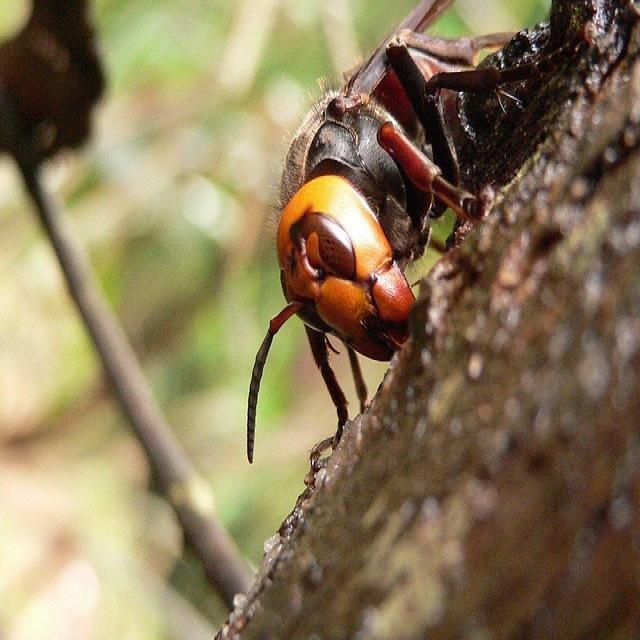Wasp: (256, 2, 545, 434)
